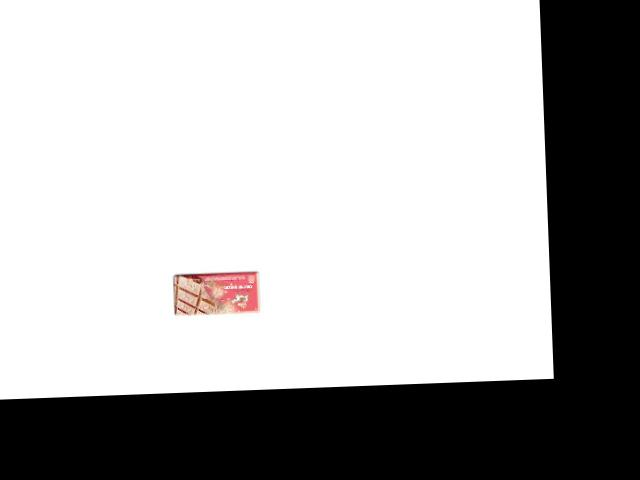chocolate: (170, 269, 261, 317)
